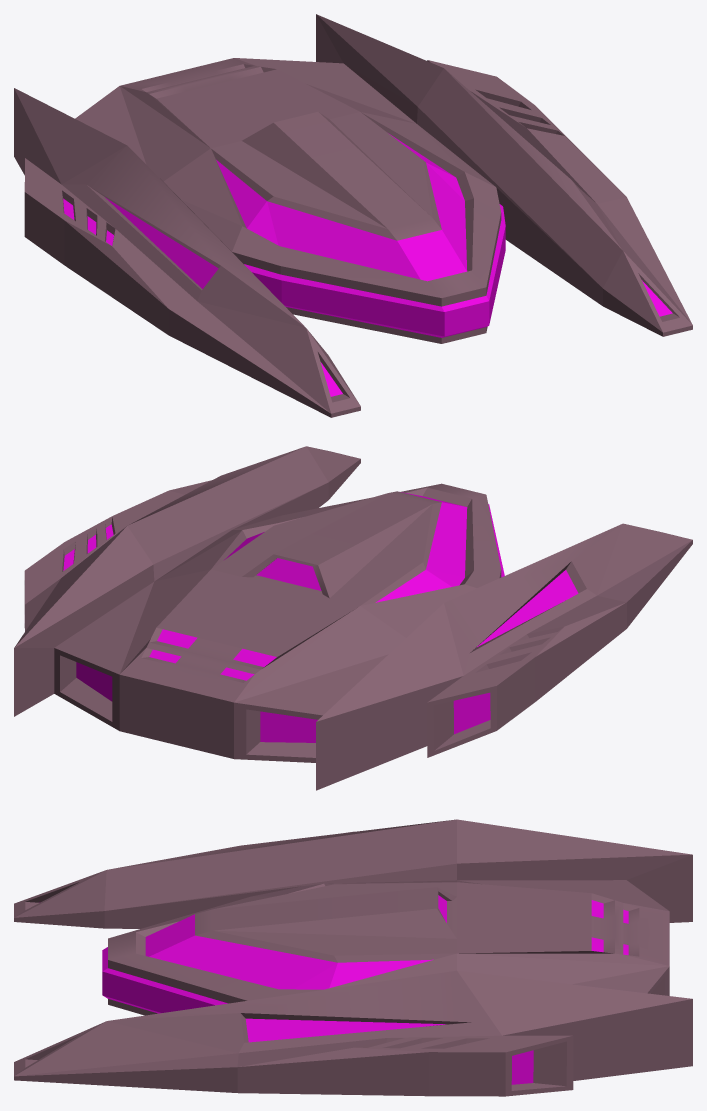
Rendered from PlayerShip_Pink.fbx.
3 renders of one model, top to bottom at view 1: azimuth 30°, elevation 25°; view 2: azimuth 150°, elevation 25°; view 3: azimuth 270°, elevation 25°, orthographic. The views are drawn at different scales.
Parts seen in each view (by area): view 1: playerShip_Pink; view 2: playerShip_Pink; view 3: playerShip_Pink.
Boxes of the visible parts, x1,y1,x2,y2 form: playerShip_Pink: [14, 14, 692, 417]; playerShip_Pink: [14, 446, 692, 790]; playerShip_Pink: [14, 819, 692, 1096].
Bounding box in the file's own units: 4.23 × 0.867 × 5.39.
